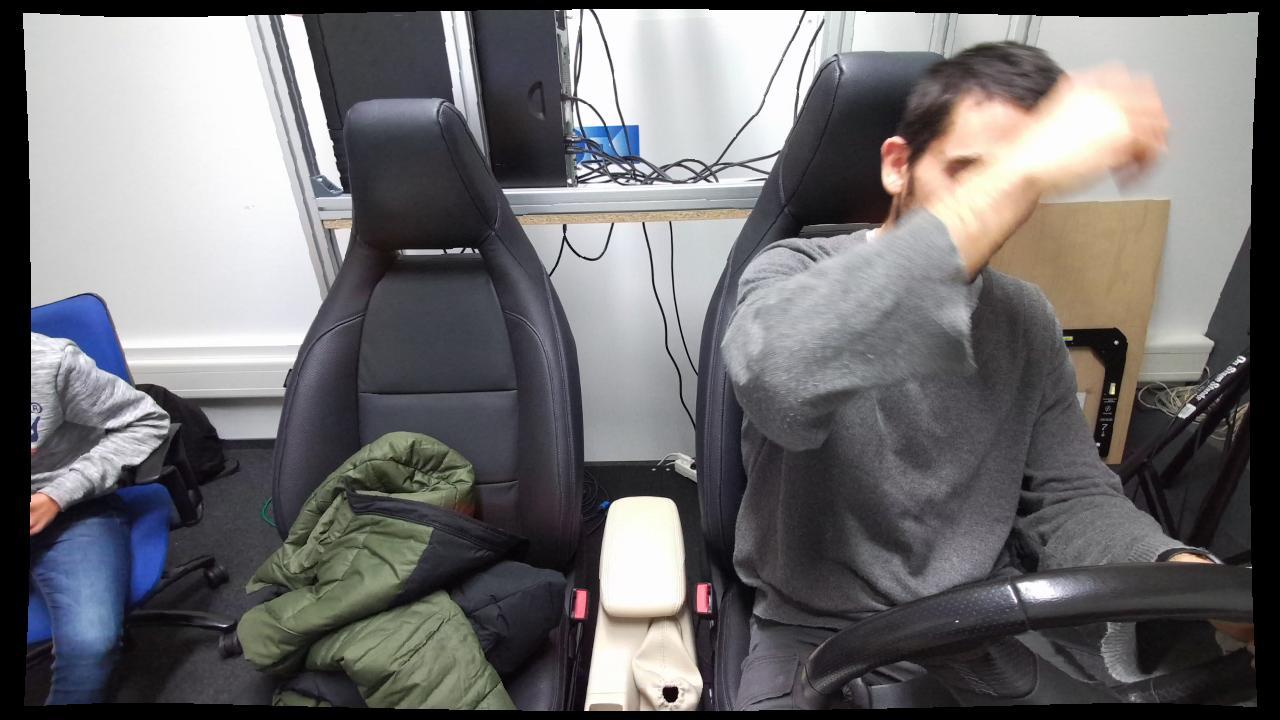Distracted: (724, 41, 1178, 712)
